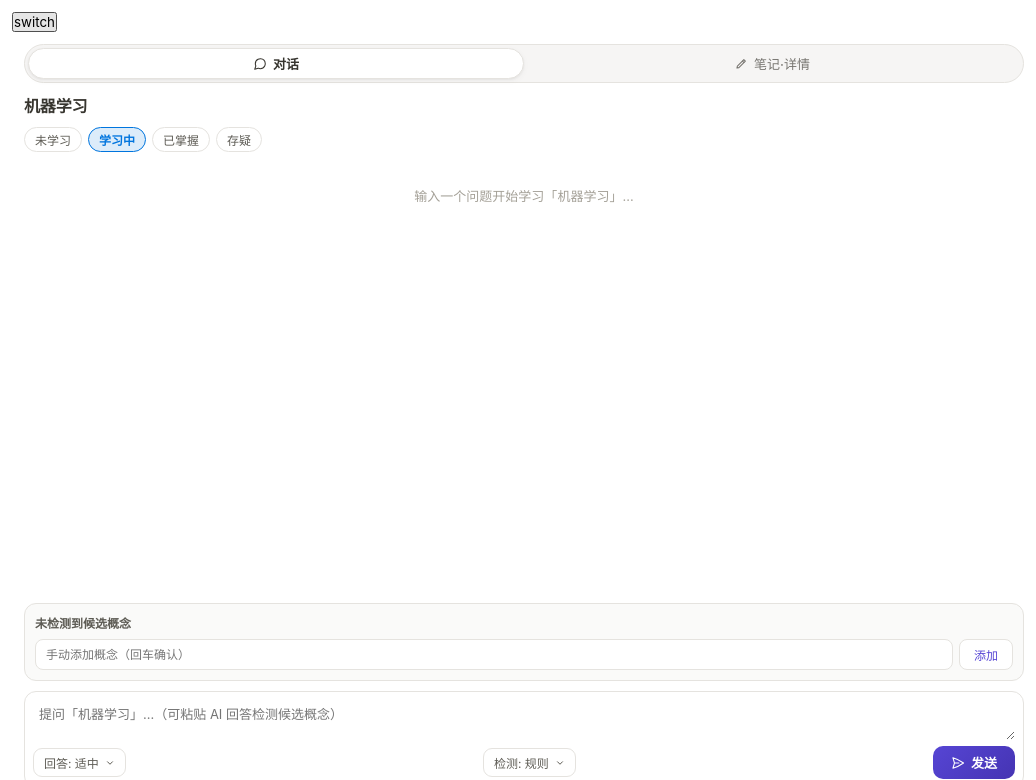
it: ChatPane 标签页导航（第二轮 1.7 反馈 #5/6/7 方案 B） › 切到笔记·详情：总结/状态组/复习计划/笔记都在
Click the tab "笔记·详情": x=772, y=64 [524,48,1020,79]
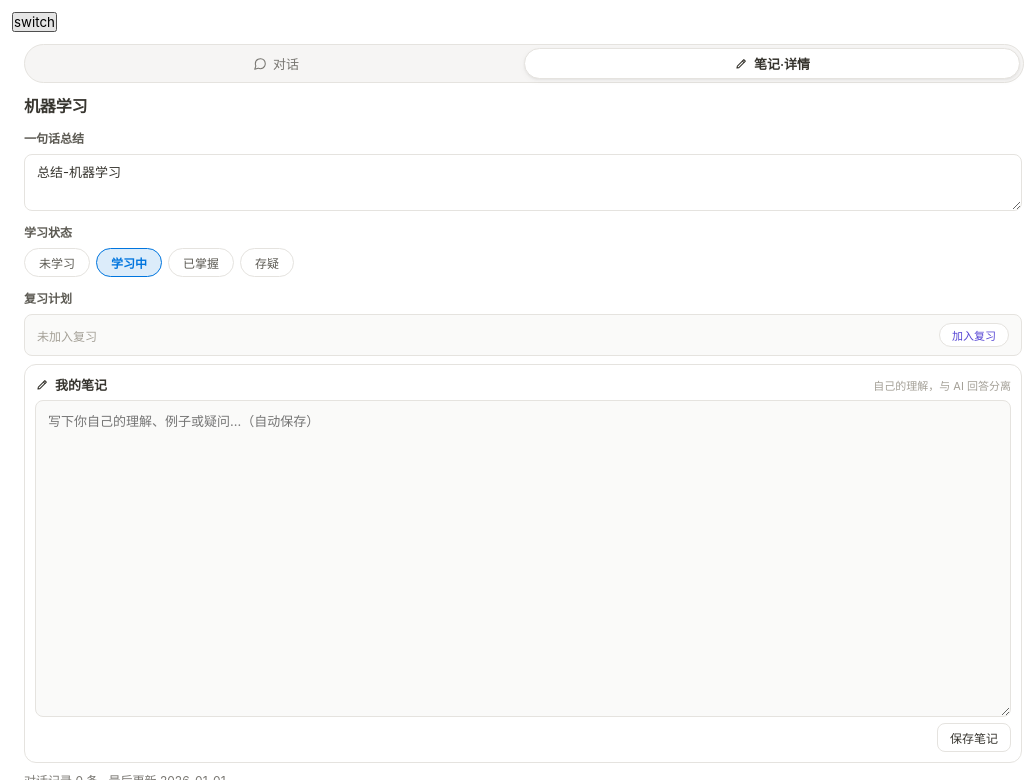
Check: the text "一句话总结" is shown, box [24,131,84,146]
Check: the text "学习状态" is shown, box [24,225,72,240]
Check: the text "复习计划" is shown, box [24,291,72,306]
